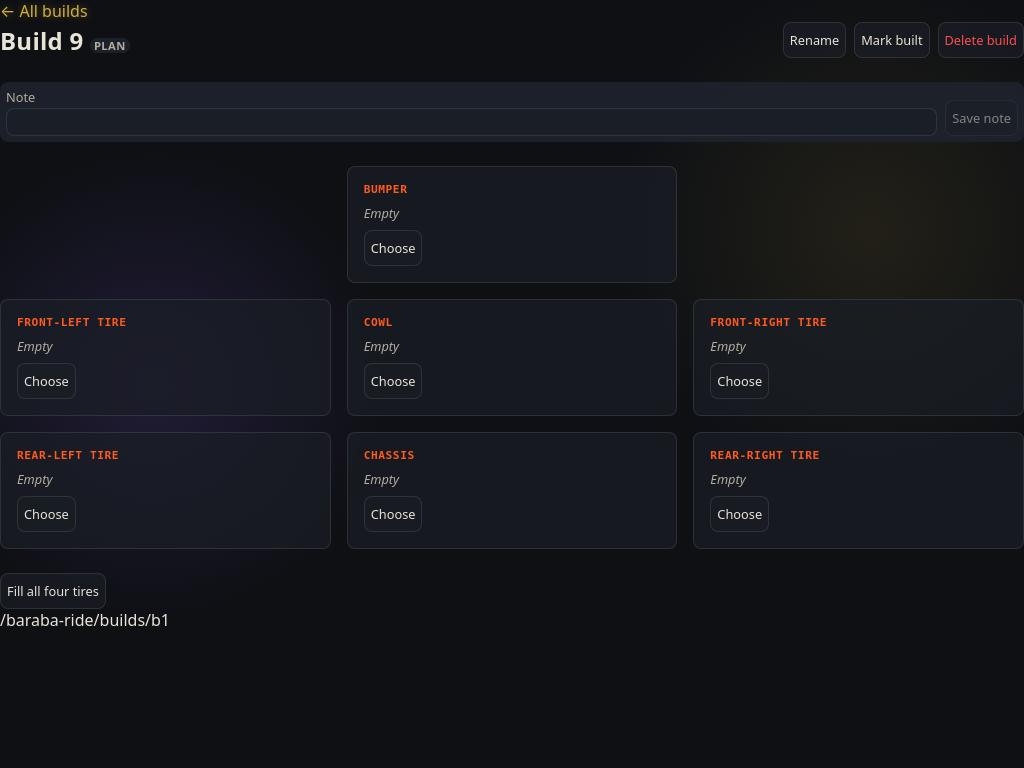
BuildView for a plan › sets a position to the chosen part and variant
Click the button "Choose" below "Bumper". click: (393, 248)
box: [364,230,422,266]
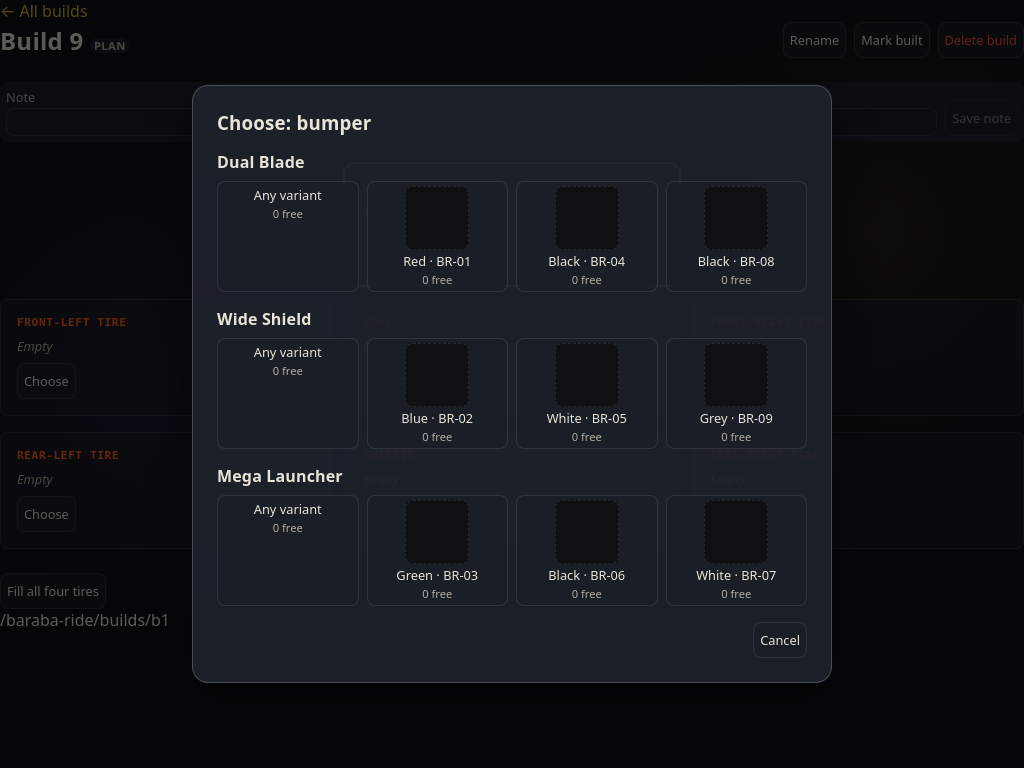
Click the button "Red · BR-01 0 free". click: (437, 236)
box: [366,181,508,292]
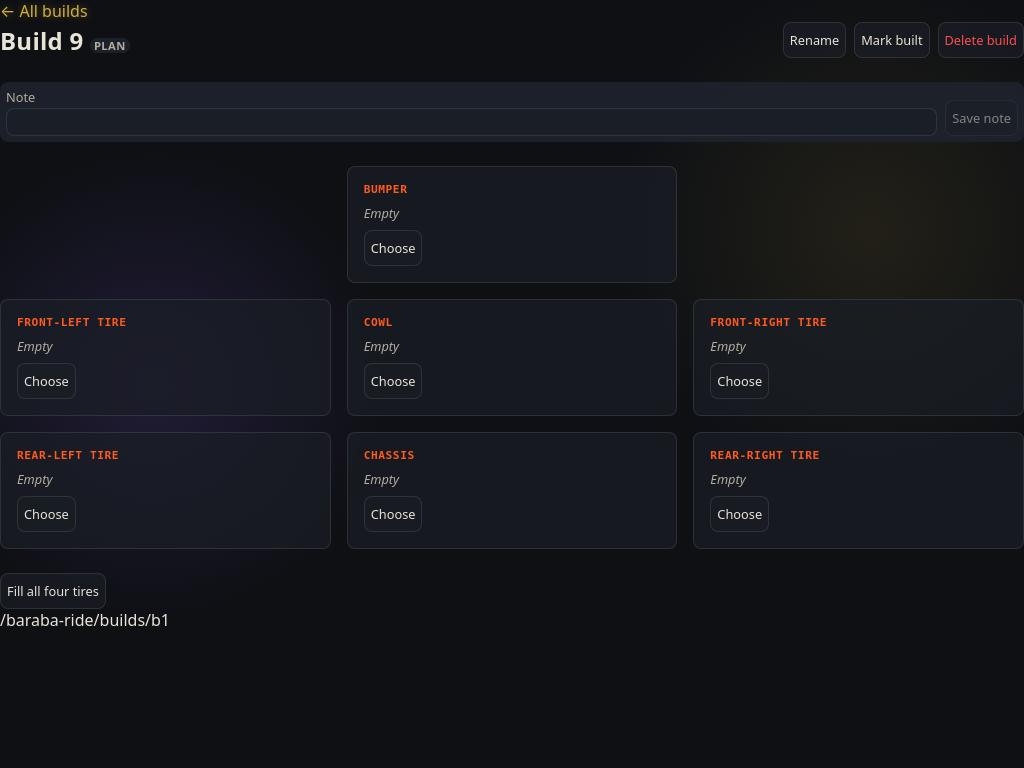
Check: the dialog is gone
